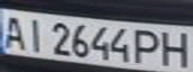2: (45, 19, 72, 56)
4: (87, 24, 112, 61), (109, 25, 133, 63)
6: (66, 21, 93, 60)
A: (0, 11, 30, 50)
H: (157, 28, 193, 69)
I: (21, 16, 48, 53)
P: (130, 27, 163, 65)
